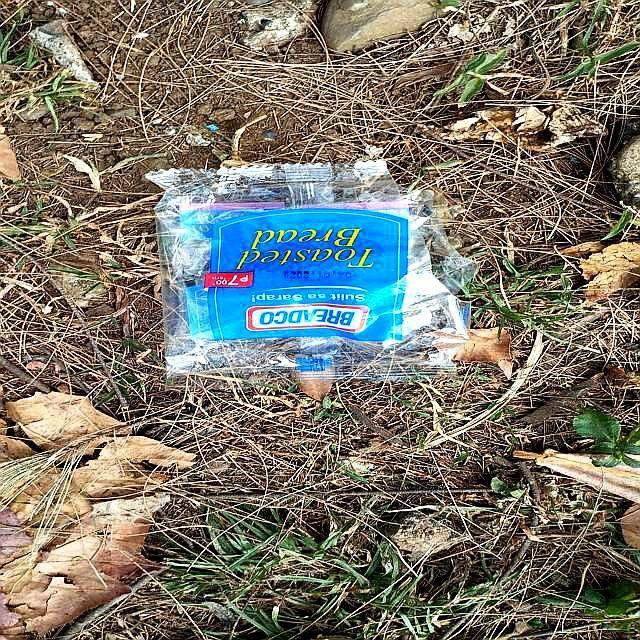Non-biodegradable: (146, 163, 475, 387)
